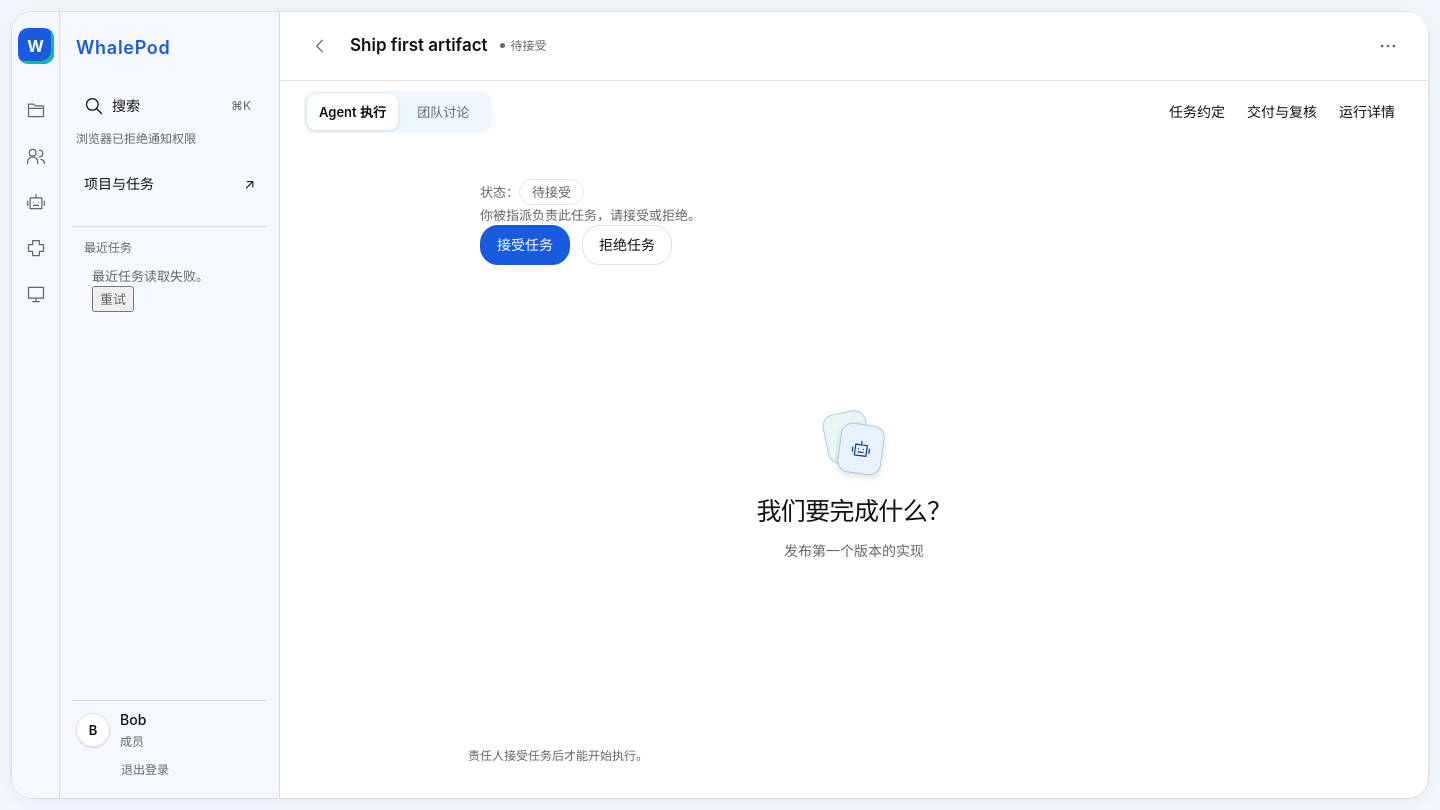
Scenario: artifact-list（Task Room 右侧） › Reviewer 输入说明与内容摘要随已发布 Artifact 展示
Click the button "交付与复核" at (1282, 112), box x1=1238 y1=92 x2=1326 y2=132
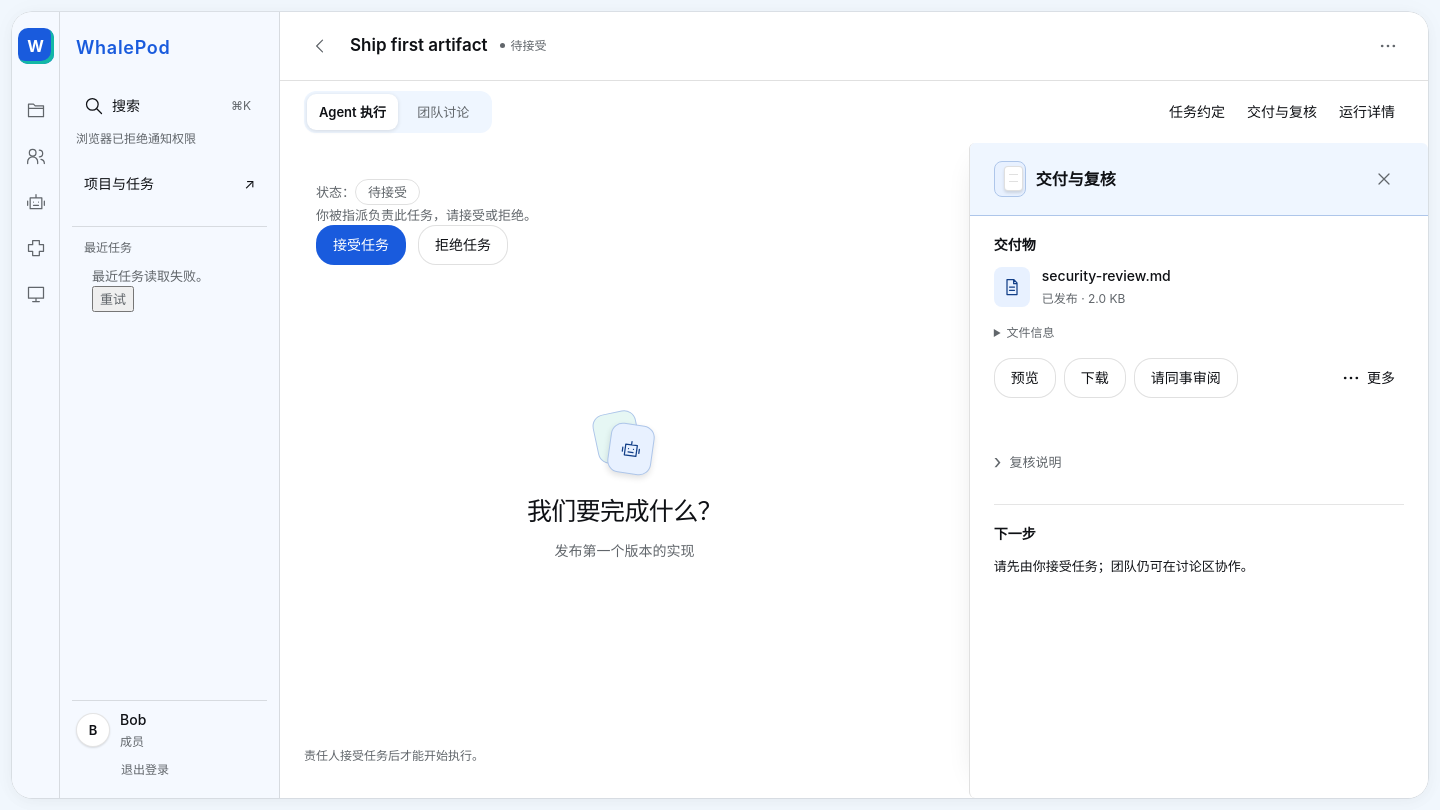
Click the heading "复核说明" at (1028, 462), box x1=994 y1=444 x2=1062 y2=480
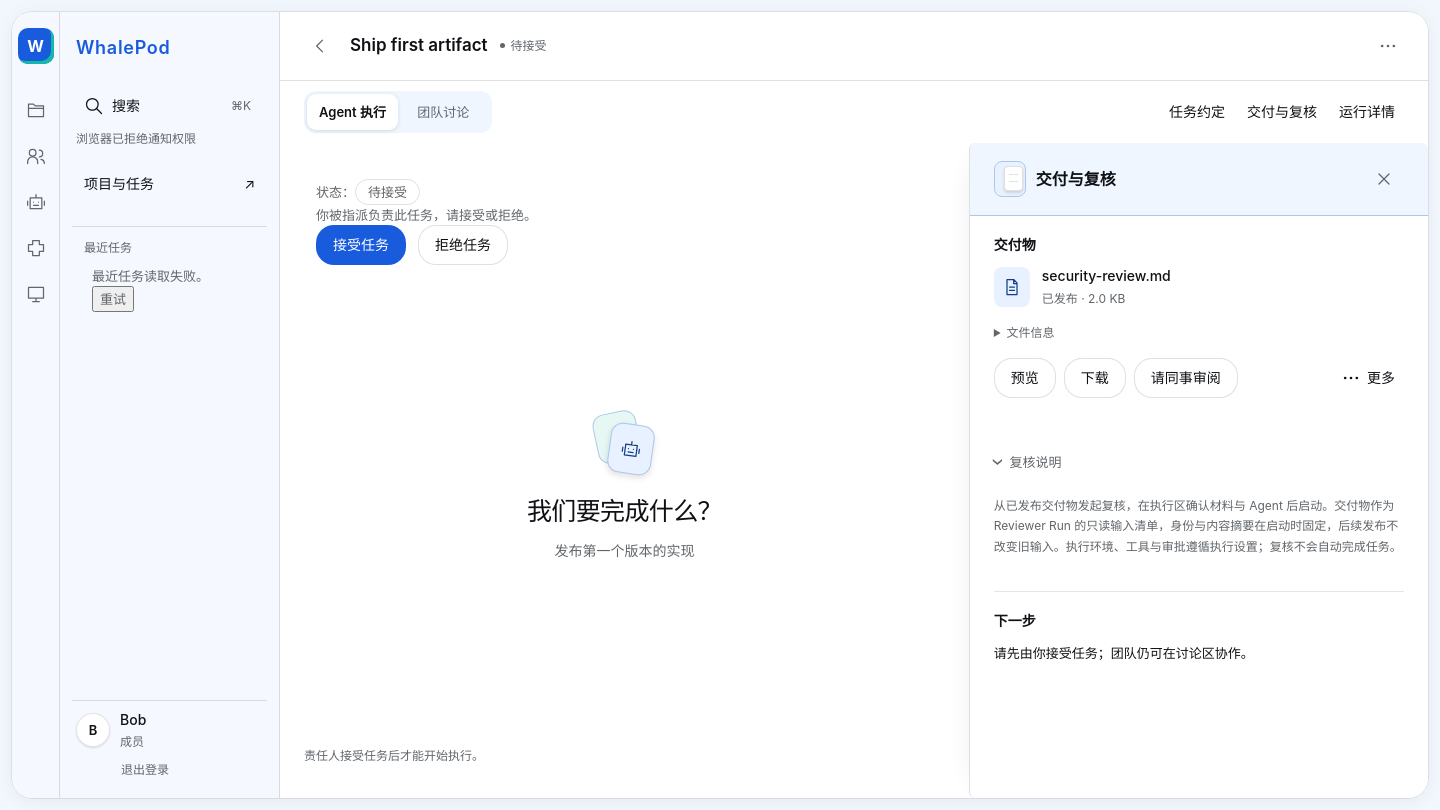
Click the heading "文件信息" at (1030, 332), box x1=1006 y1=324 x2=1054 y2=340
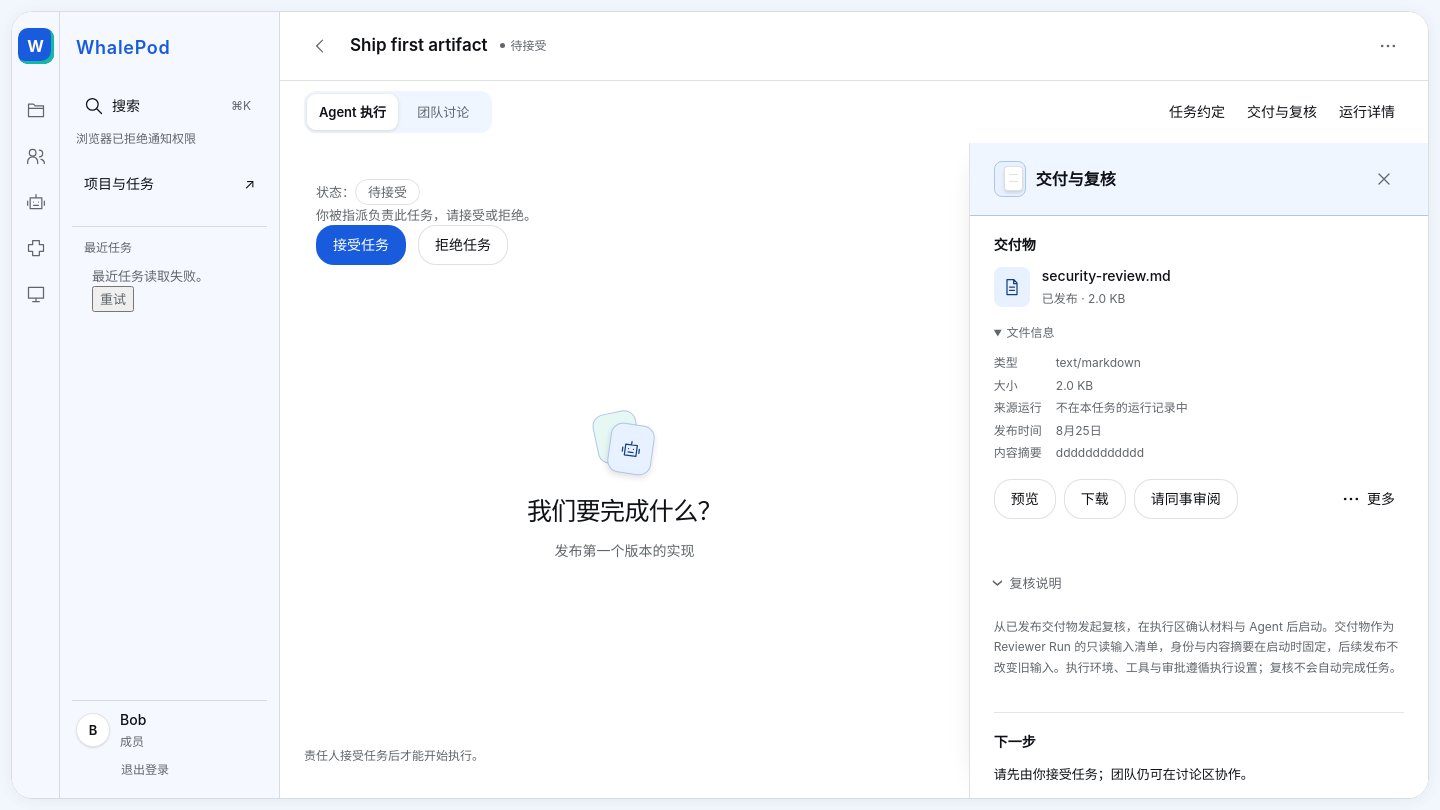
expect the text "Reviewer Run 的只读输入" is shown: met, box x1=994 y1=619 x2=1402 y2=675
expect the text "dddddddddddd" is shown: met, box x1=1056 y1=444 x2=1144 y2=463
